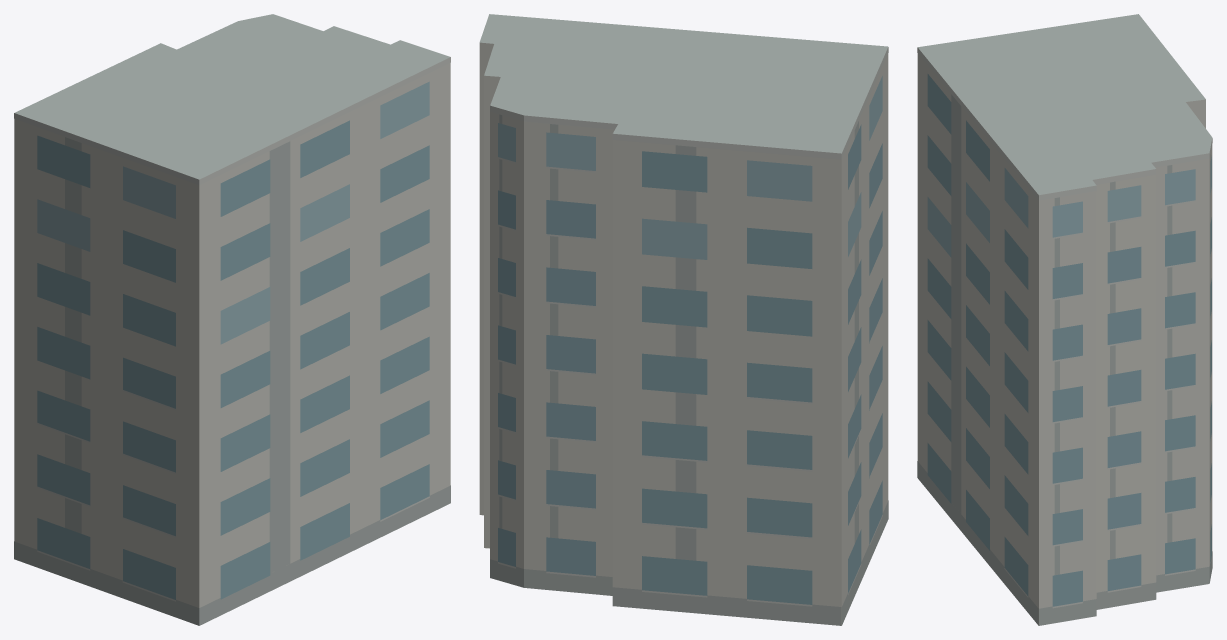
Rendered from survey-upis-32799276.glb.
The picture shows the model from 3 angles, left to right: view 1: azimuth 30°, elevation 25°; view 2: azimuth 150°, elevation 25°; view 3: azimuth 270°, elevation 25°; orthographic projection. The views are drawn at different scales.
Visible parts, largest first — view 1: survey-upis-32799276.tmp; view 2: survey-upis-32799276.tmp; view 3: survey-upis-32799276.tmp.
Part boxes in pixels (bbox=[...]): survey-upis-32799276.tmp: bbox=[14, 14, 450, 625]; survey-upis-32799276.tmp: bbox=[479, 14, 888, 625]; survey-upis-32799276.tmp: bbox=[917, 14, 1212, 625].
Bounding box in the file's own units: 16.88 × 18.7 × 11.62.
